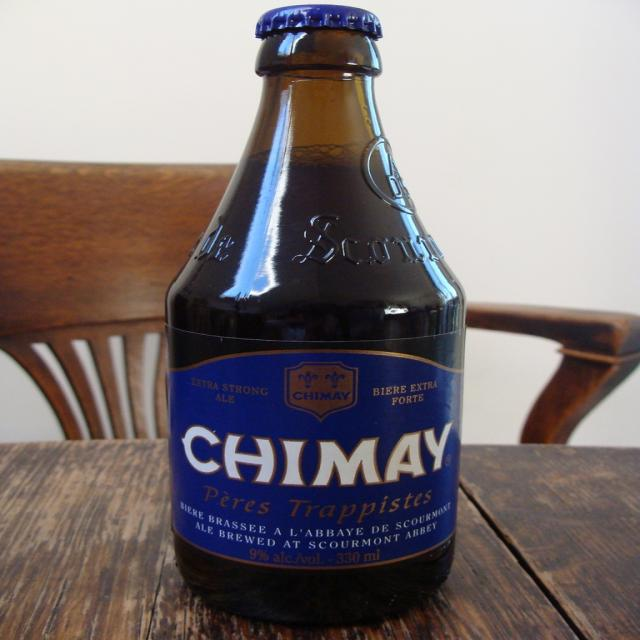chimay: (170, 350, 465, 569)
